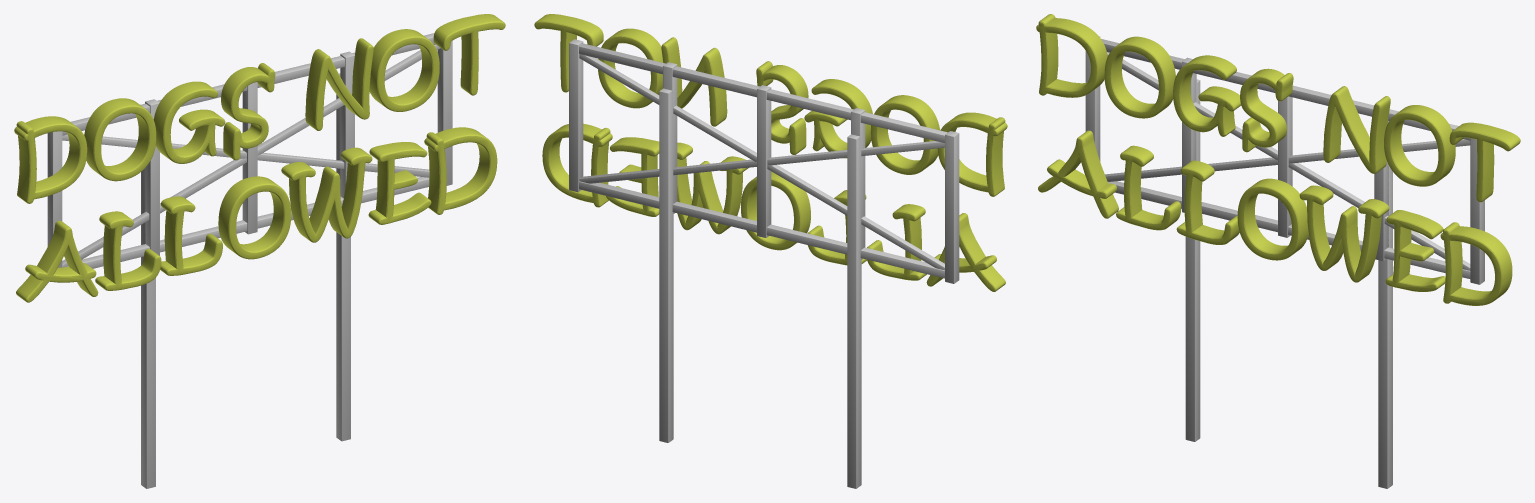
The model's file is Dogs not allowed.fbx.
3 views of the same model, side by side, from view 1: azimuth 30°, elevation 25°; view 2: azimuth 150°, elevation 25°; view 3: azimuth 330°, elevation 25° (orthographic). The views are drawn at different scales.
Parts seen in each view (by area): view 1: Text, Dogs_Not_Allowed_Good; view 2: Dogs_Not_Allowed_Good, Text; view 3: Text, Dogs_Not_Allowed_Good.
Boxes of the visible parts, bbox=[...] form: Text: bbox=[14, 14, 505, 302]; Dogs_Not_Allowed_Good: bbox=[47, 33, 452, 488]; Dogs_Not_Allowed_Good: bbox=[569, 39, 959, 488]; Text: bbox=[534, 14, 1007, 291]; Text: bbox=[1036, 14, 1520, 305]; Dogs_Not_Allowed_Good: bbox=[1085, 36, 1484, 488].
Size of the model in its own units: 494 by 395 by 37.09.
